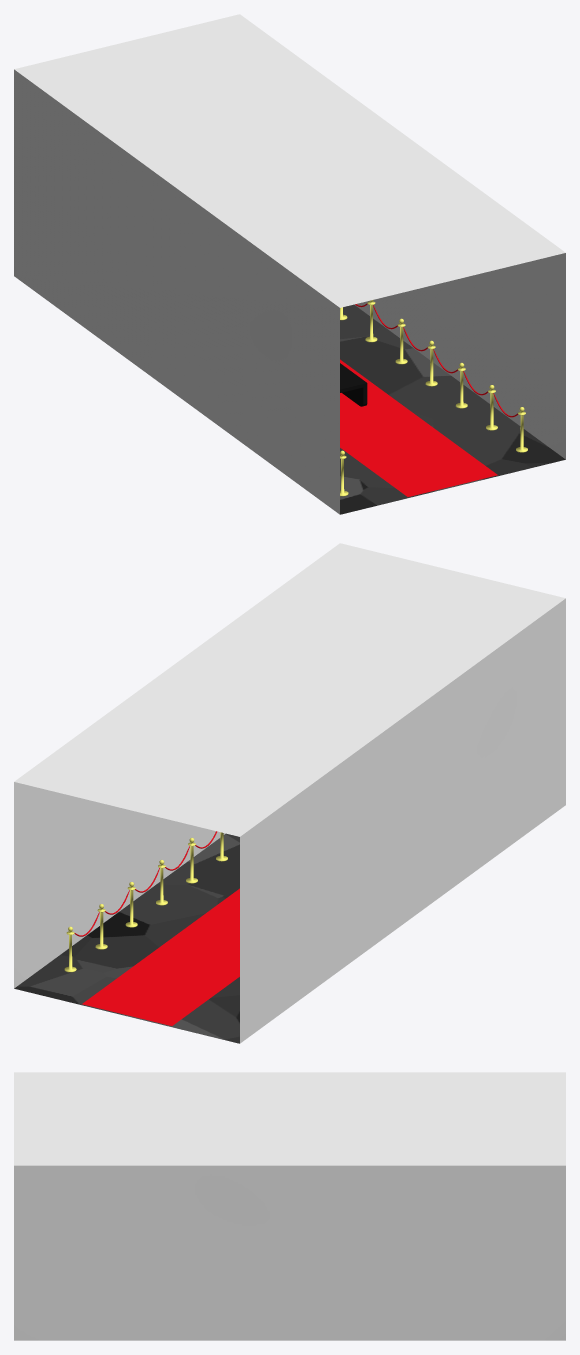
File: stage1.fbx
3 renders of one model, top to bottom at view 1: azimuth 30°, elevation 25°; view 2: azimuth 150°, elevation 25°; view 3: azimuth 270°, elevation 25°, orthographic. The views are drawn at different scales.
Parts seen in each view (by area): view 1: stage1; view 2: stage1; view 3: stage1.
Boxes of the visible parts, x1,y1,x2,y2 form: stage1: [14, 14, 565, 514]; stage1: [14, 543, 565, 1043]; stage1: [14, 1072, 565, 1340].
Bounding box in the file's own units: 400 × 350 × 1000.
